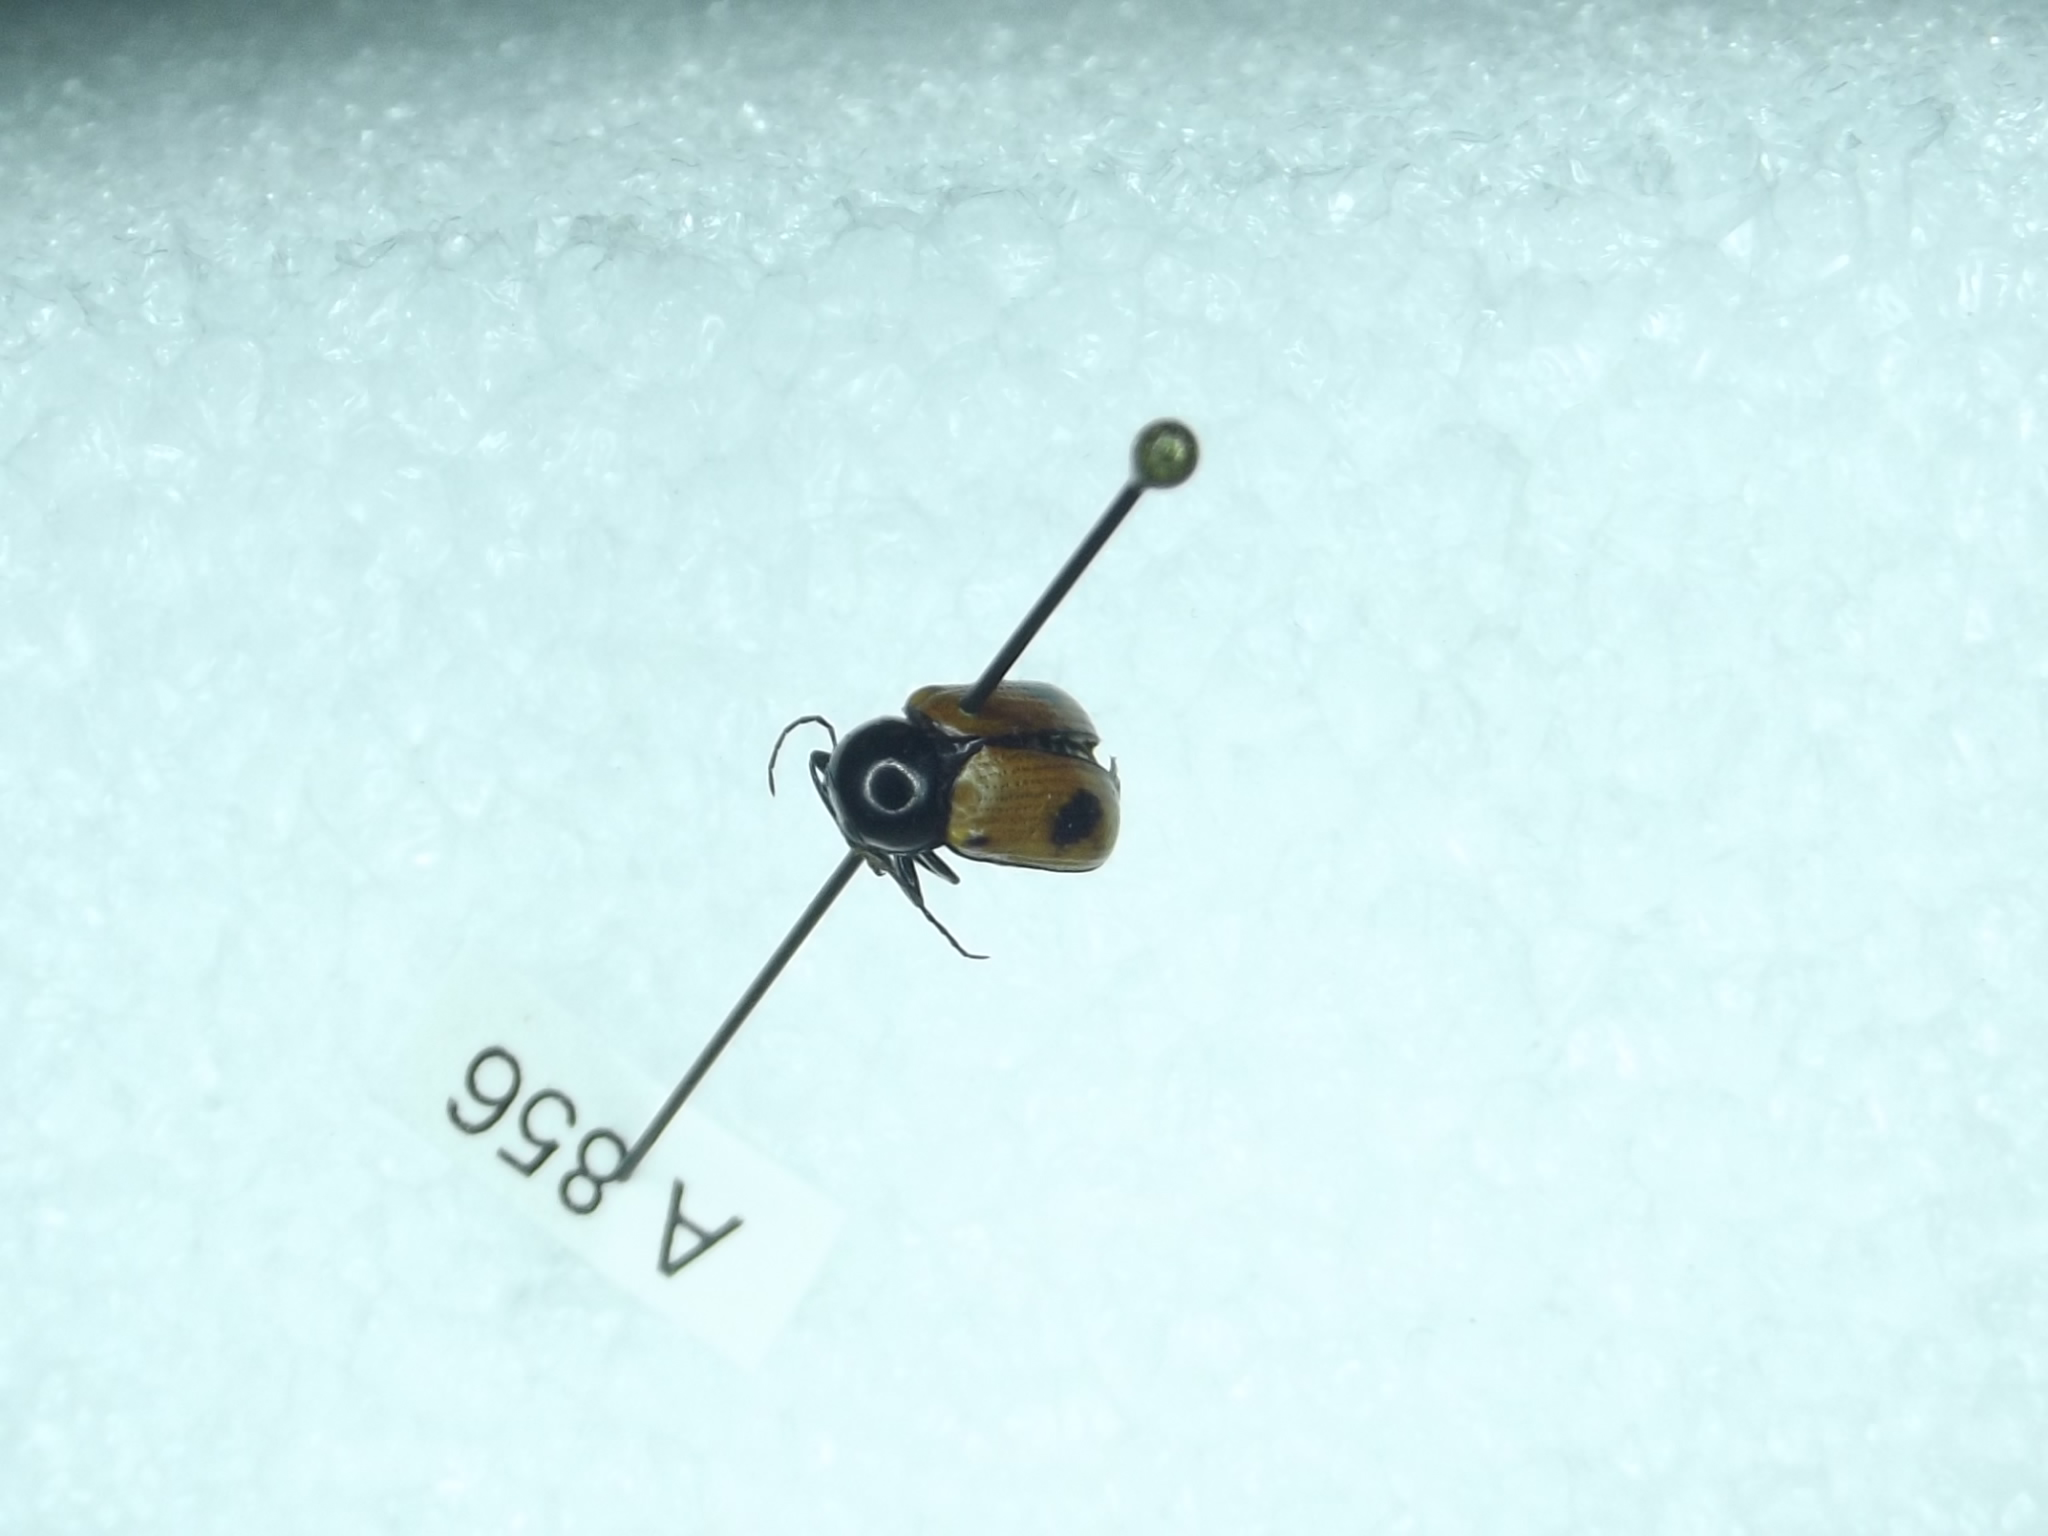Cryptocephalus_bipunctatus: (743, 653, 1135, 966)
